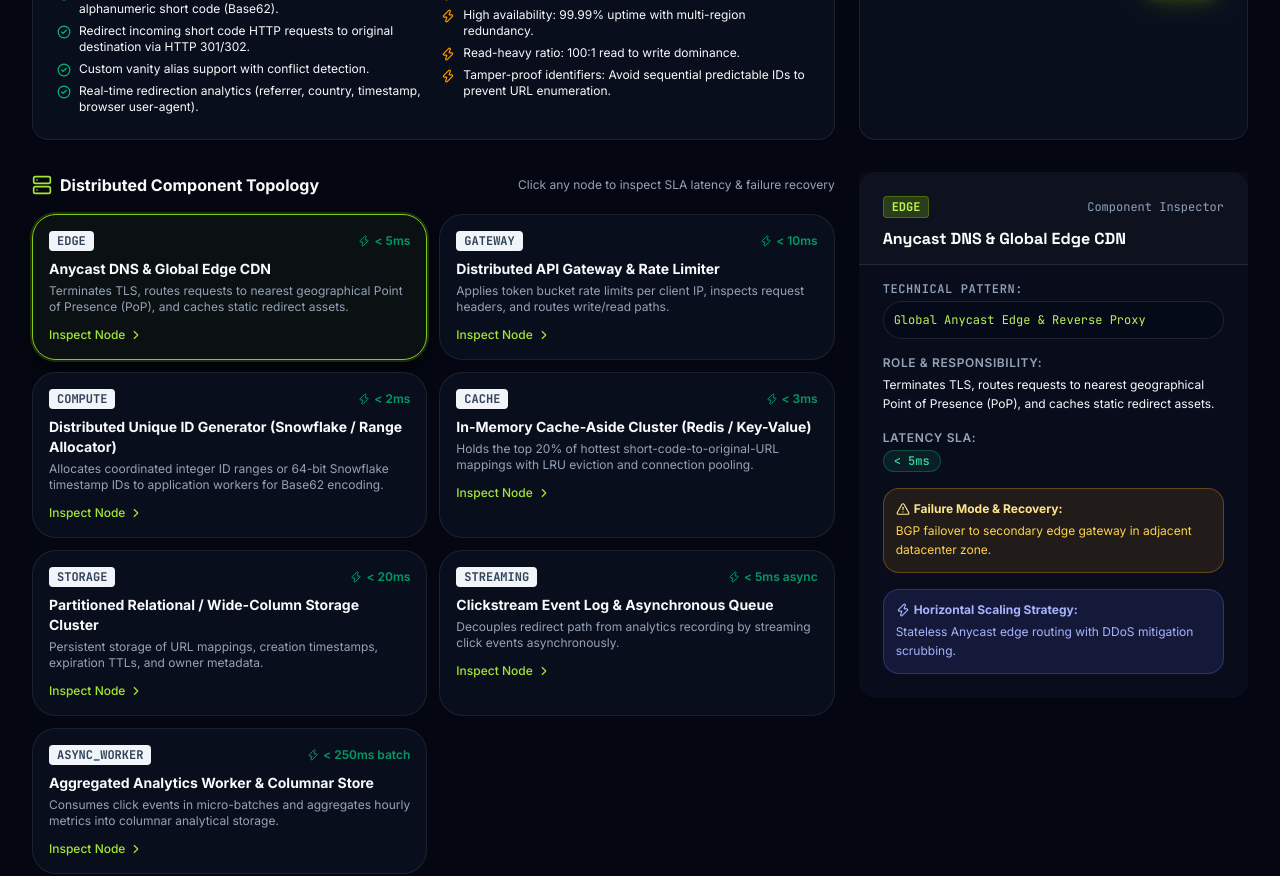
it: SystemDesignStudioPage › inspects component node and displays latency SLA and failure mode in inspector
(page scrolled)
Note: Click on In-Memory Cache node
Click the heading "In-Memory Cache-Aside Cluster (Redis / Key-Value)": (637, 426) [456, 416, 818, 436]
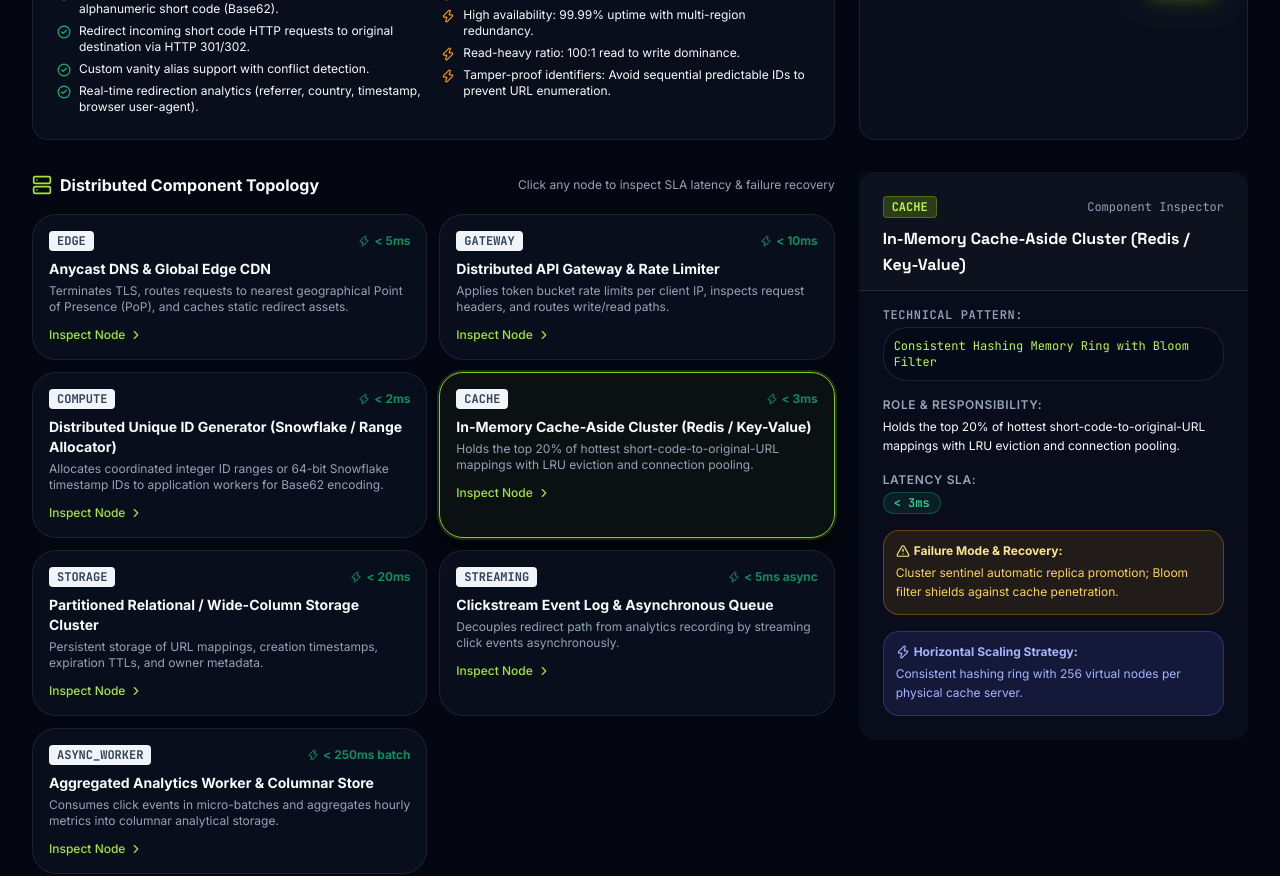
Expected: the heading "In-Memory Cache-Aside Cluster (Redis / Key-Value)" below "Distributed Component Topology" is shown, [456, 418, 812, 434]
Result: the text "Consistent Hashing Memory Ring with Bloom Filter" is shown at [883, 326, 1224, 380]
